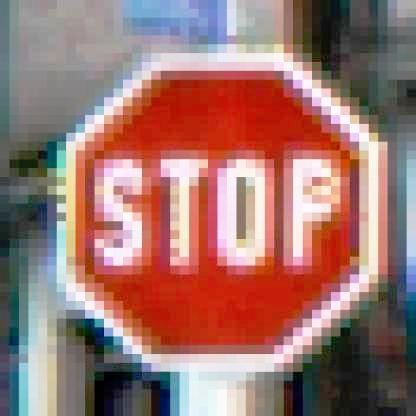Stop Sign: (68, 51, 389, 376)
